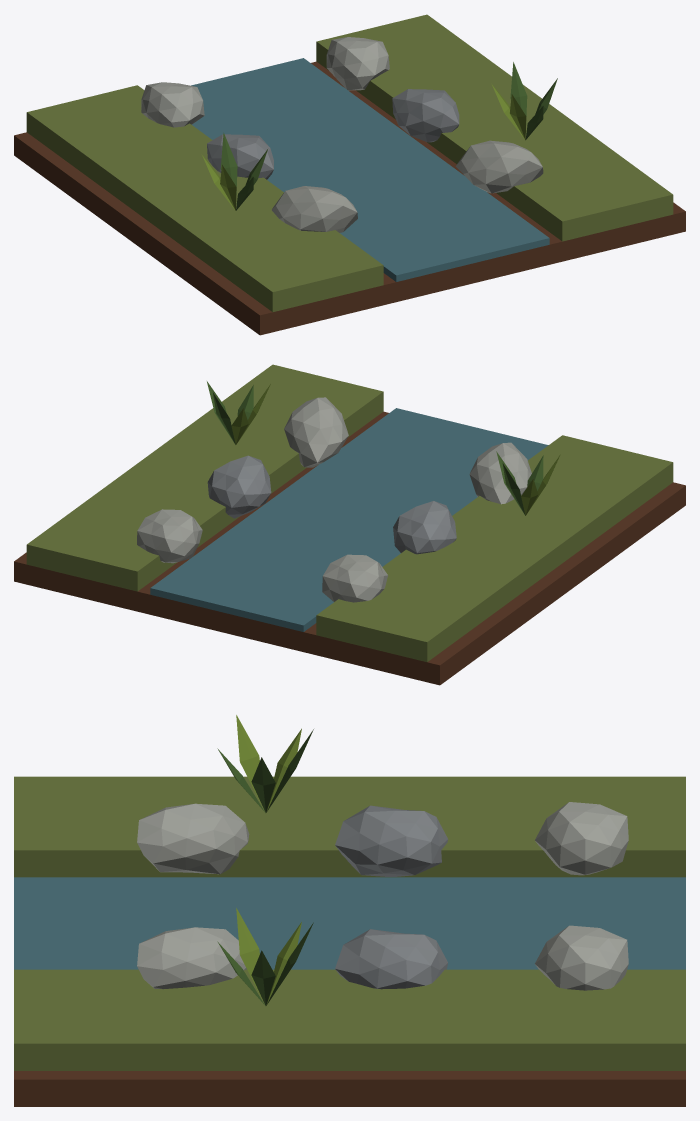
File: 163_stream_straight.fbx
The picture shows the model from 3 angles, top to bottom: view 1: azimuth 30°, elevation 25°; view 2: azimuth 150°, elevation 25°; view 3: azimuth 270°, elevation 25°; orthographic projection. The views are drawn at different scales.
Visible parts, largest first — view 1: 163_stream_straight; view 2: 163_stream_straight; view 3: 163_stream_straight.
Part boxes in pixels (bbox=[...]): 163_stream_straight: bbox=[14, 14, 685, 335]; 163_stream_straight: bbox=[14, 364, 685, 685]; 163_stream_straight: bbox=[14, 715, 685, 1106].
Size of the model in its own units: 2 by 0.4716 by 2.
1 material, 1 textured.
